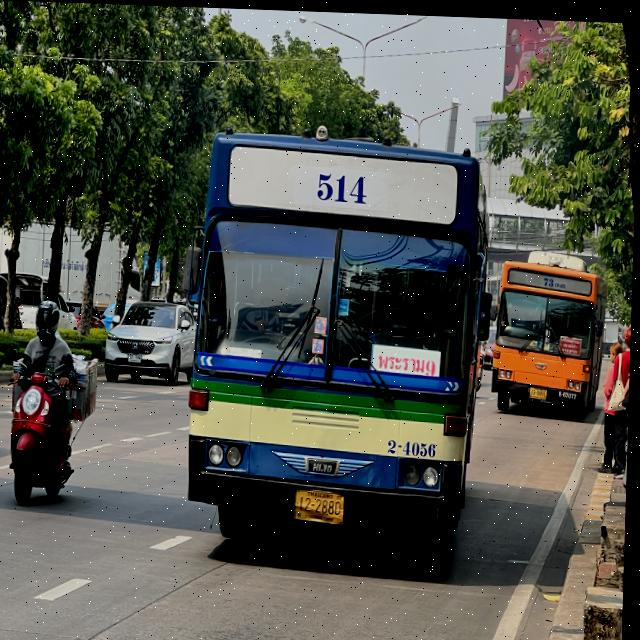BMTA-bus: (172, 114, 502, 566), (496, 239, 614, 422)
Bus-Line-Number: (305, 157, 381, 209), (543, 271, 569, 286)
Destination-Sign-Extra-Bus: (374, 342, 443, 375), (562, 332, 584, 351)
